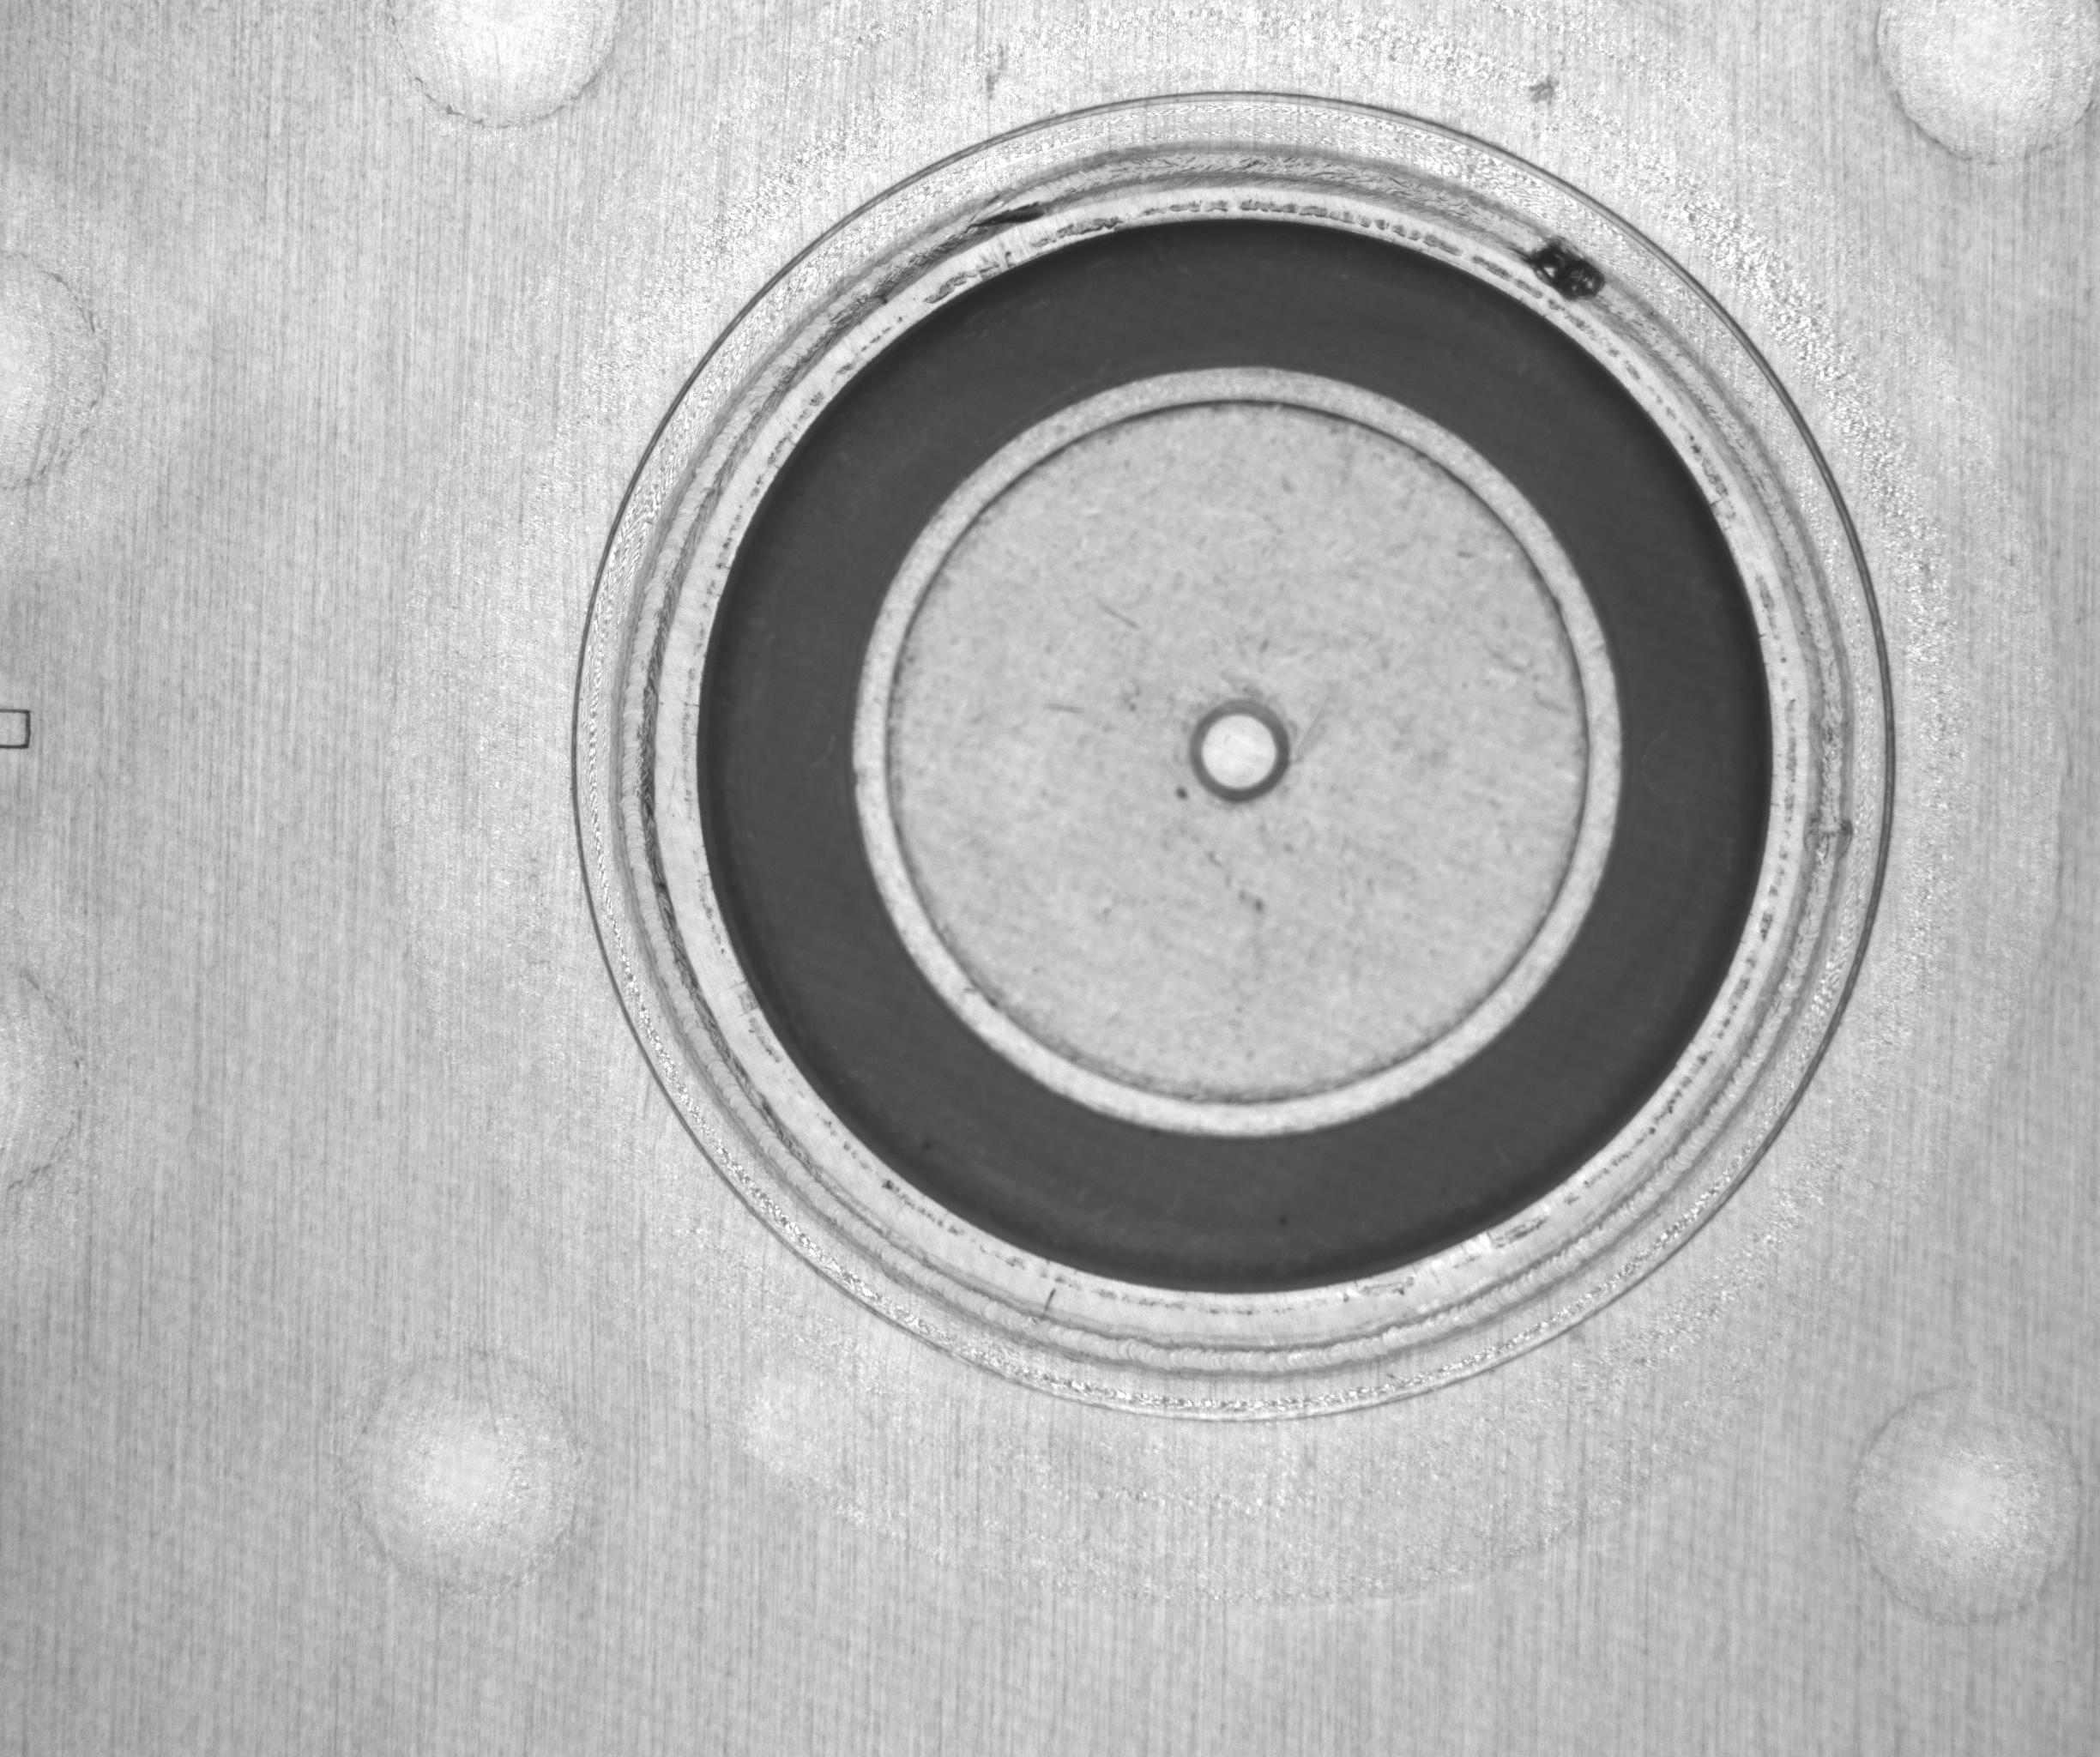weldinghole: (1456, 161, 1680, 401)
